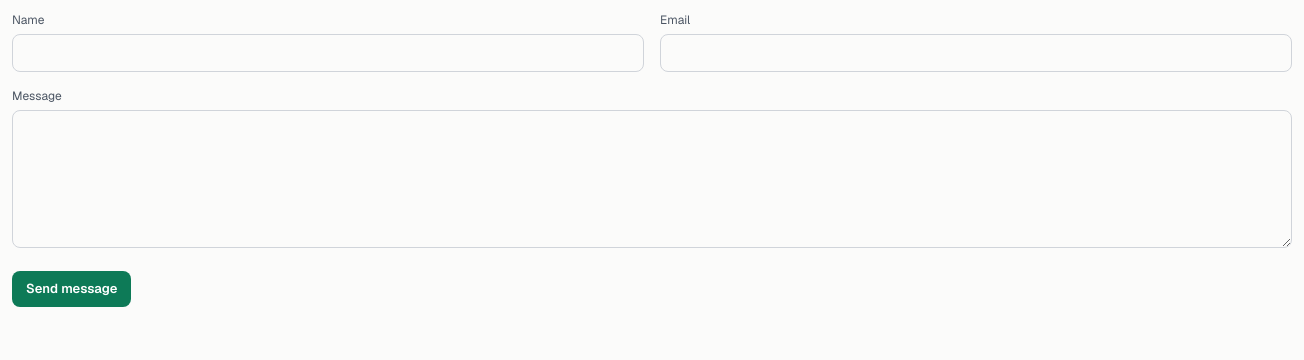
Test: ContactForm › shows the banner for 429 and resets Turnstile
Type "Ada" into the field labelled "Name" at (328,53), box [12,34,644,72]
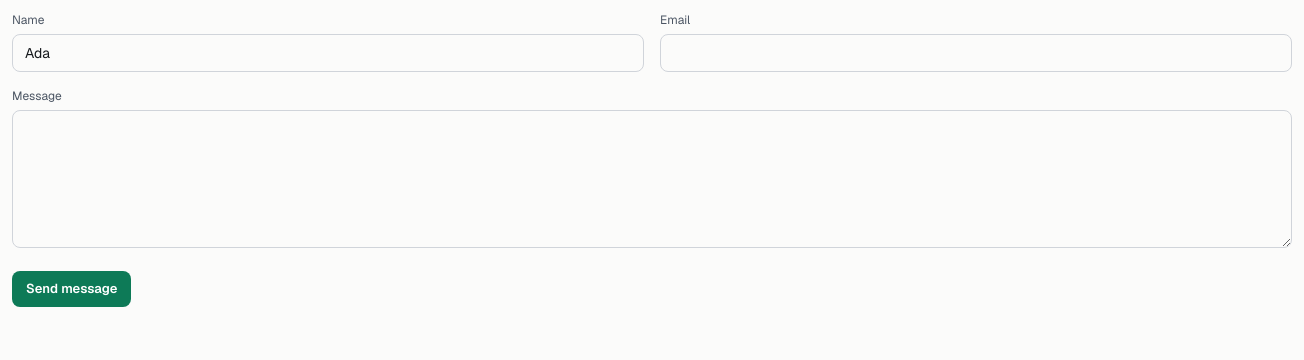
Type "ada@example.com" into the field labelled "Email" at (976,53), box [660,34,1292,72]
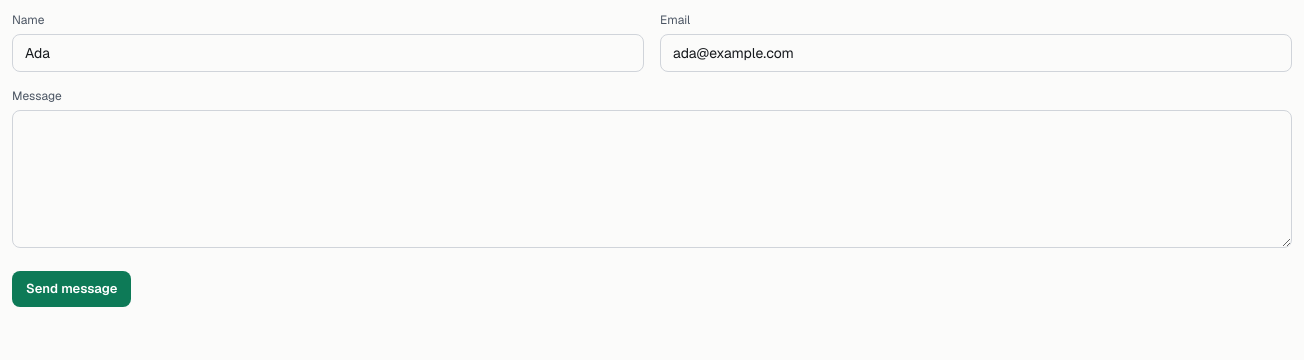
Type "Hello there, Chris!" into the text box labelled "Message" at (652,179), box [12,110,1292,248]
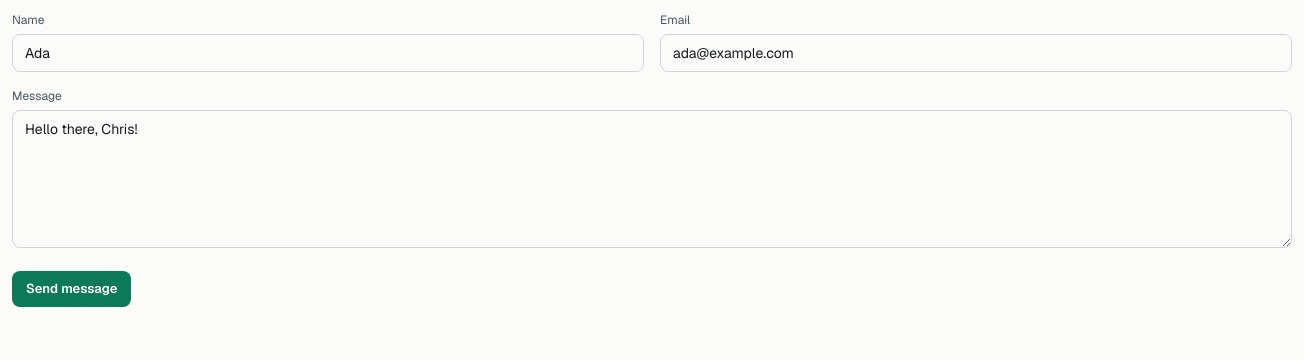
Click the button "Send message" at (72,289), box [12,271,131,306]
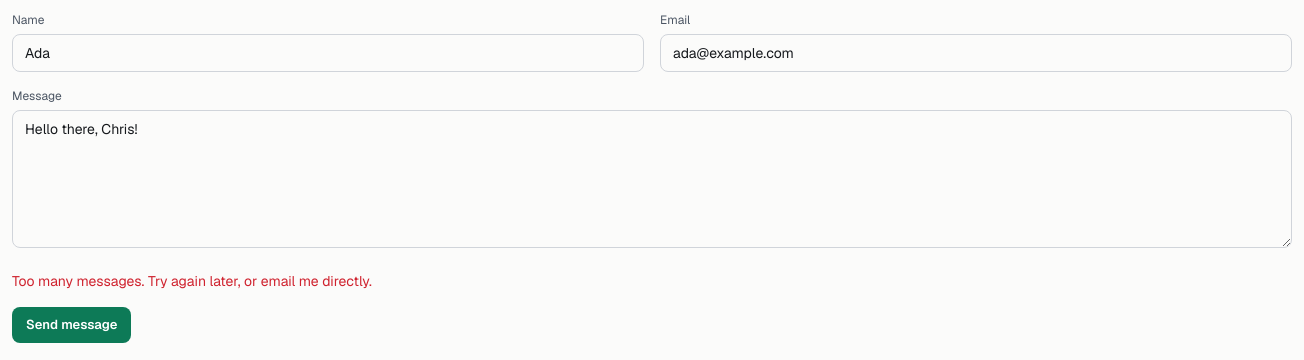
Expected: the message reads "Too many messages. Try again later, or email me directly.", [12,272,372,290]
